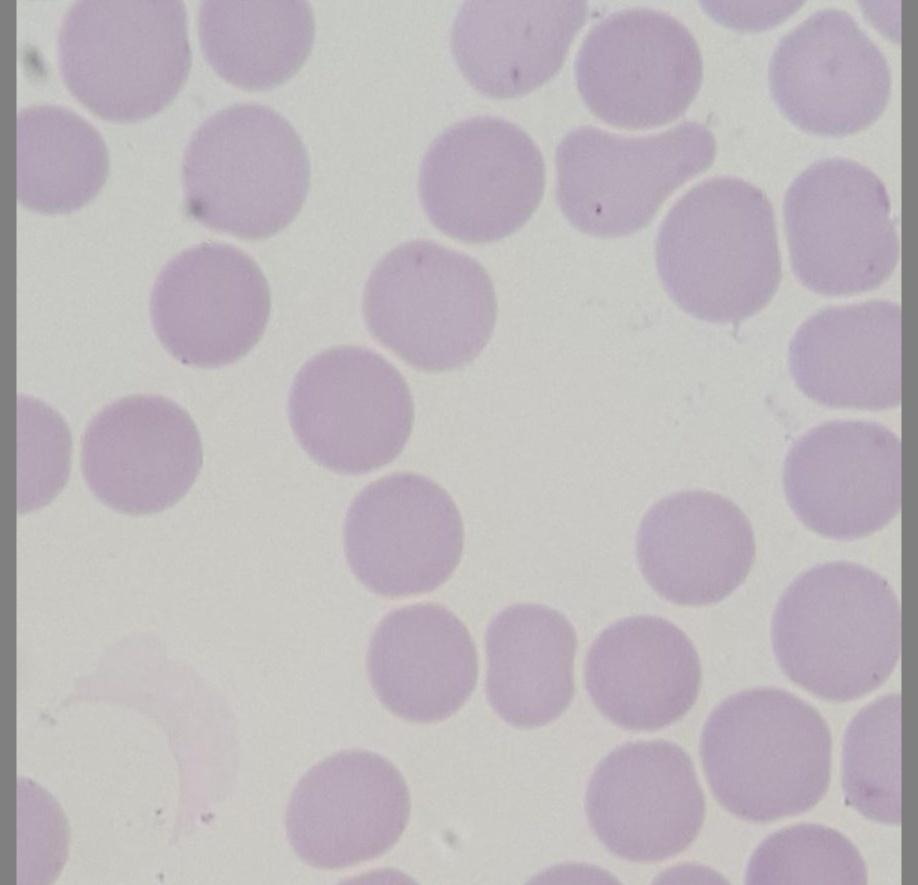Uninfected: (558, 121, 714, 236), (654, 179, 781, 320), (184, 105, 314, 241), (772, 562, 897, 702), (700, 689, 829, 821), (364, 242, 494, 370), (287, 345, 415, 473), (781, 158, 896, 294), (59, 2, 192, 119), (419, 119, 545, 241), (78, 394, 204, 516), (285, 749, 410, 870), (149, 244, 271, 366), (342, 475, 462, 596), (583, 740, 703, 861), (774, 13, 893, 135), (577, 12, 703, 125), (784, 420, 900, 540), (582, 614, 701, 730), (635, 489, 753, 605), (366, 603, 480, 722), (451, 2, 580, 95), (482, 602, 578, 726), (791, 302, 899, 408), (200, 2, 314, 87)
